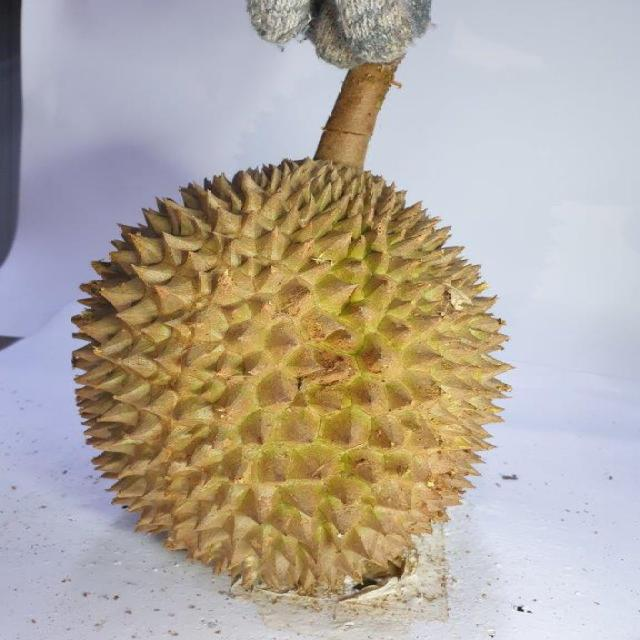mature: (66, 157, 519, 596)
